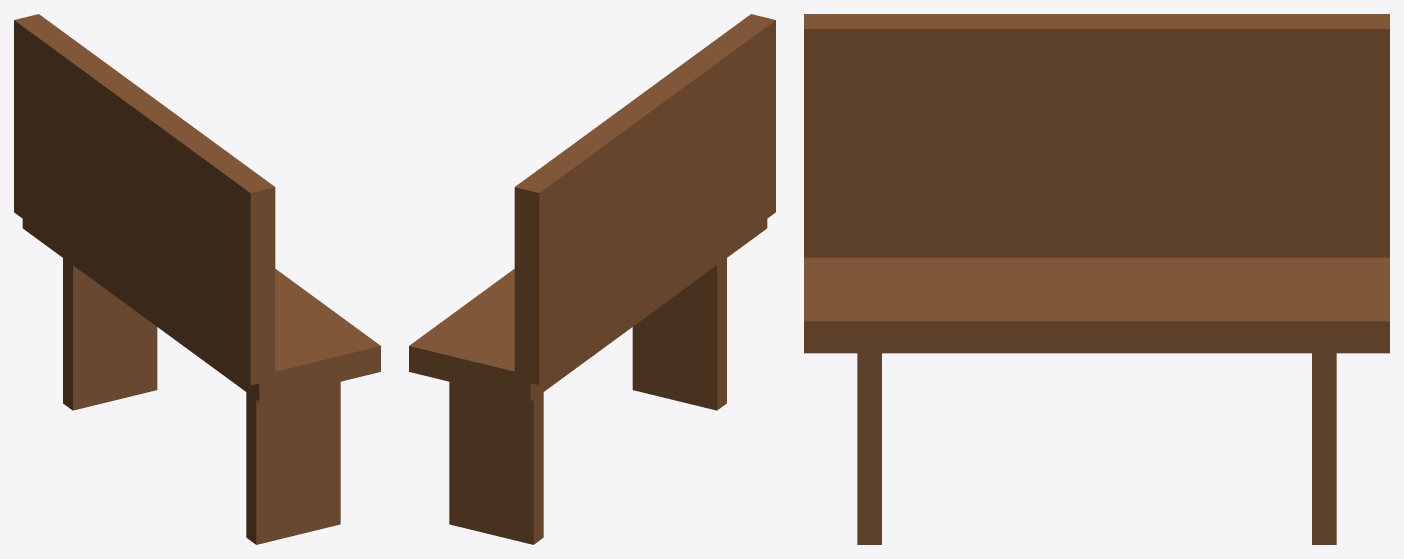
File: bench_road.glb
3 views of the same model, side by side, from view 1: azimuth 30°, elevation 25°; view 2: azimuth 150°, elevation 25°; view 3: azimuth 270°, elevation 25° (orthographic). The views are drawn at different scales.
Parts seen in each view (by area): view 1: bench_road; view 2: bench_road; view 3: bench_road.
Boxes of the visible parts, bbox=[...] form: bench_road: bbox=[14, 14, 380, 544]; bench_road: bbox=[409, 14, 775, 544]; bench_road: bbox=[804, 14, 1389, 544].
Size of the model in its own units: 0.0636 by 0.1745 by 0.2.
